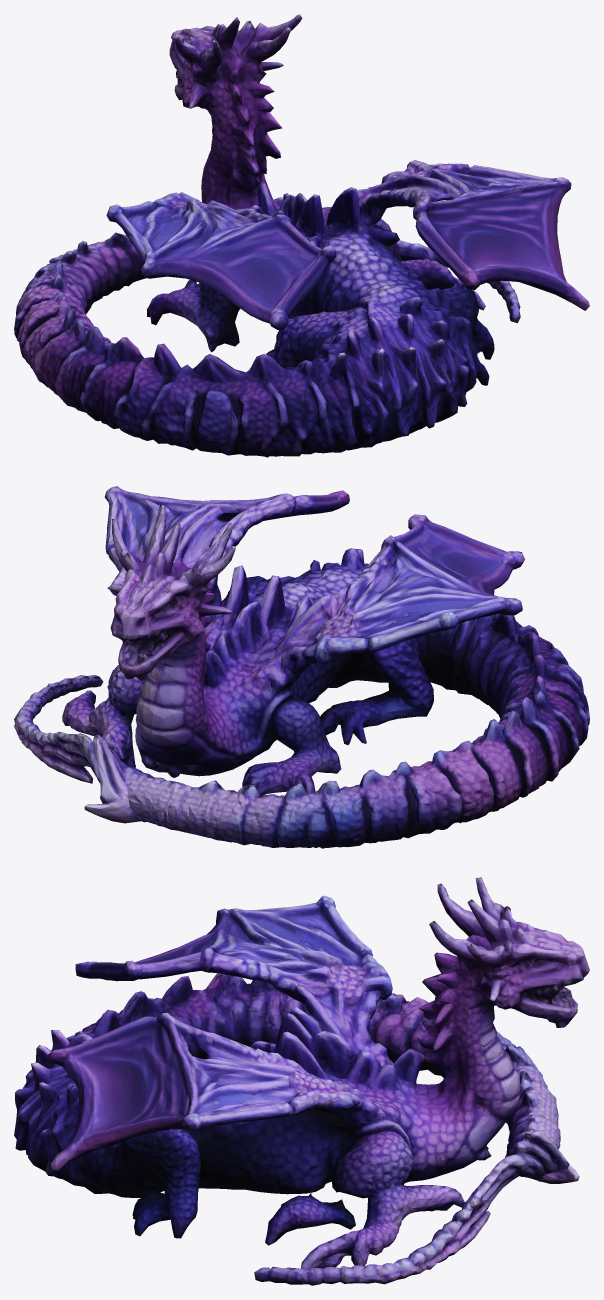
File: dragon.glb
3 renders of one model, top to bottom at view 1: azimuth 30°, elevation 25°; view 2: azimuth 150°, elevation 25°; view 3: azimuth 270°, elevation 25°, orthographic. The views are drawn at different scales.
Visible parts, largest first — view 1: world; view 2: world; view 3: world.
Part boxes in pixels (x1,y1,x2,y2): world: (14, 14, 589, 457); world: (14, 486, 589, 848); world: (14, 877, 589, 1285).
Bounding box in the file's own units: 1 × 0.5565 × 0.9993.
1 material, 1 textured.
